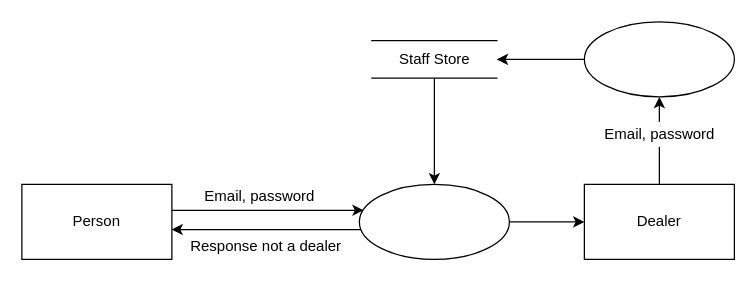
Image size: 756x281. Some labels were removed from this diagram. The shapes that lost their labels are listed below. From the top down, each one's centre as x and y in pixels, then its label:
[658,59]: Add fresher dealer
[433,221]: Login
